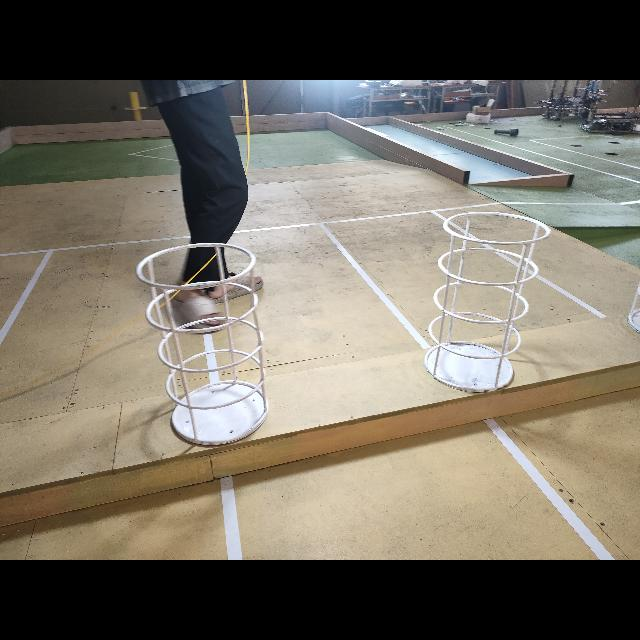S: (135, 236, 279, 454), (424, 198, 528, 408)
